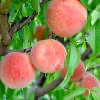Peach leaf: (52, 37, 78, 99), (89, 18, 99, 55), (61, 86, 87, 99), (21, 24, 29, 51), (89, 9, 100, 26)
